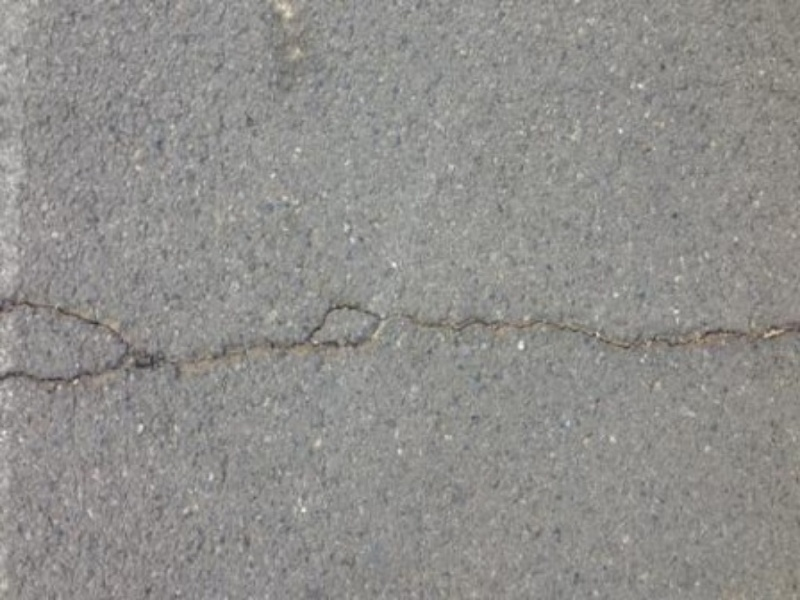crack: (3, 293, 791, 428)
